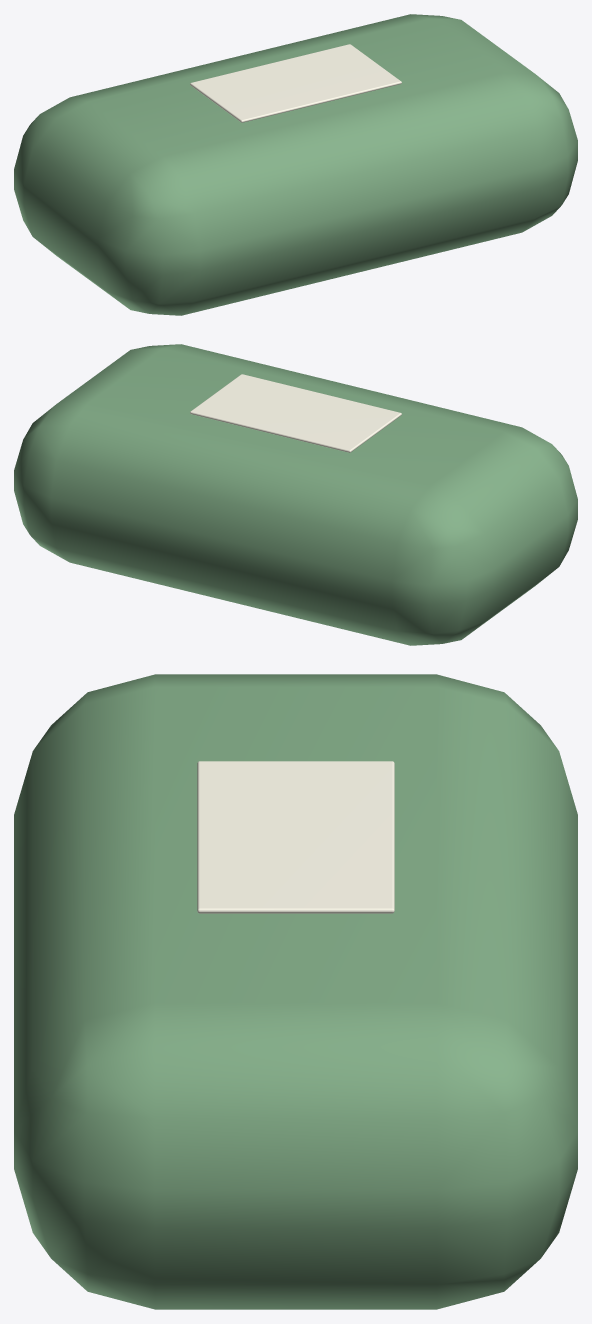
The model's file is bathroomSoapGreen.glb.
3 renders of one model, top to bottom at view 1: azimuth 30°, elevation 25°; view 2: azimuth 150°, elevation 25°; view 3: azimuth 270°, elevation 25°, orthographic. The views are drawn at different scales.
Visible parts, largest first — view 1: Soap, Soap stamp; view 2: Soap, Soap stamp; view 3: Soap, Soap stamp.
Boxes of the visible parts, x1=… form: Soap: x1=14, y1=14, x2=577, y2=315; Soap stamp: x1=190, y1=44, x2=401, y2=122; Soap: x1=14, y1=344, x2=577, y2=645; Soap stamp: x1=190, y1=374, x2=401, y2=452; Soap: x1=14, y1=674, x2=577, y2=1309; Soap stamp: x1=197, y1=761, x2=394, y2=913.
Bounding box in the file's own units: 0.73 × 0.238 × 0.4.
